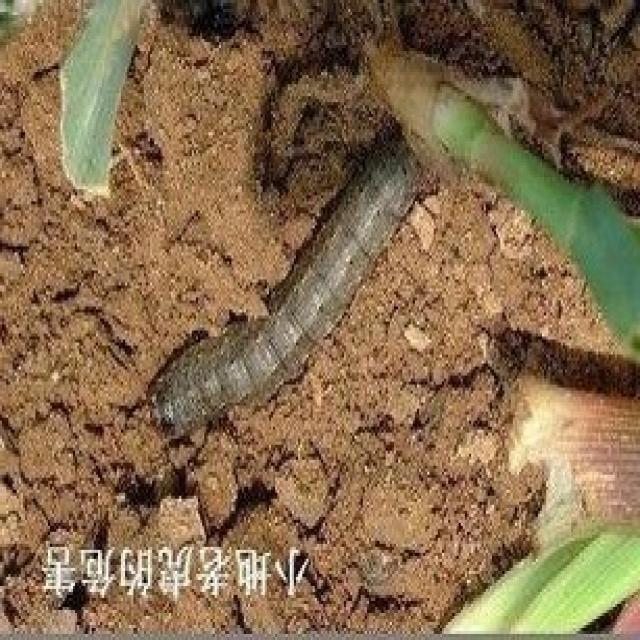black cutworm: (142, 144, 427, 465)
